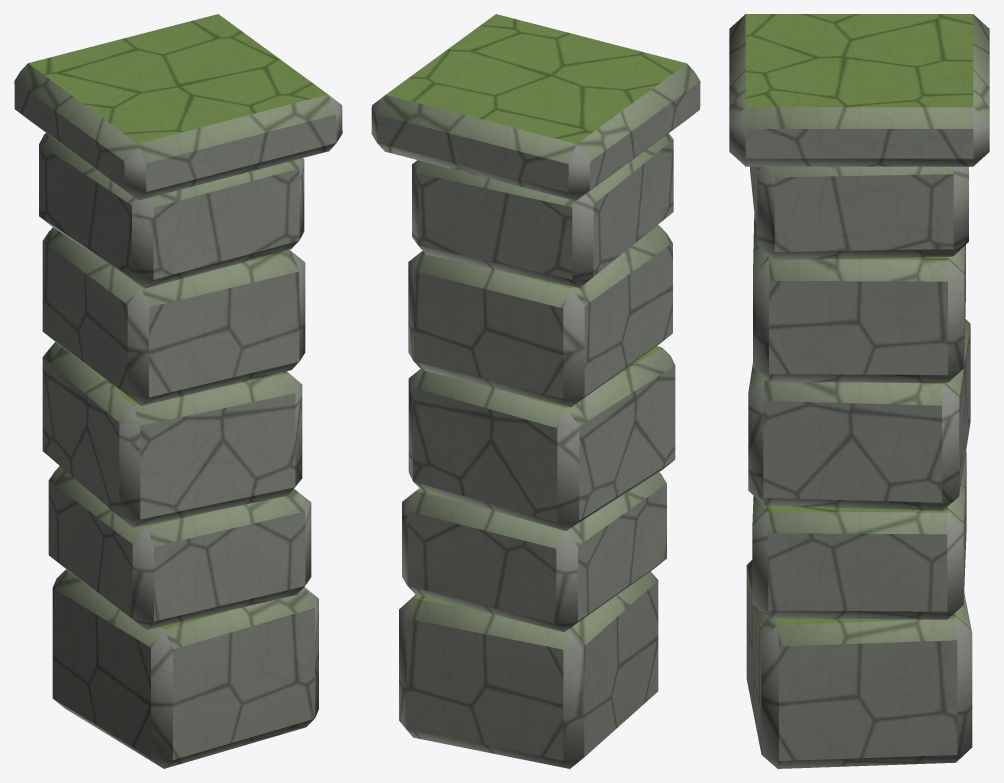
The model's file is stone_pillar_mid.glb.
The picture shows the model from 3 angles, left to right: view 1: azimuth 30°, elevation 25°; view 2: azimuth 150°, elevation 25°; view 3: azimuth 270°, elevation 25°; orthographic projection. The views are drawn at different scales.
Visible parts, largest first — view 1: stone_pillar_mid; view 2: stone_pillar_mid; view 3: stone_pillar_mid.
Boxes of the visible parts, x1=… form: stone_pillar_mid: x1=14, y1=14, x2=342, y2=768; stone_pillar_mid: x1=371, y1=14, x2=700, y2=768; stone_pillar_mid: x1=729, y1=14, x2=989, y2=768.
Size of what is drawn, in the model's own units: 1.6 by 4.51 by 1.6.
1 material, 1 textured.
